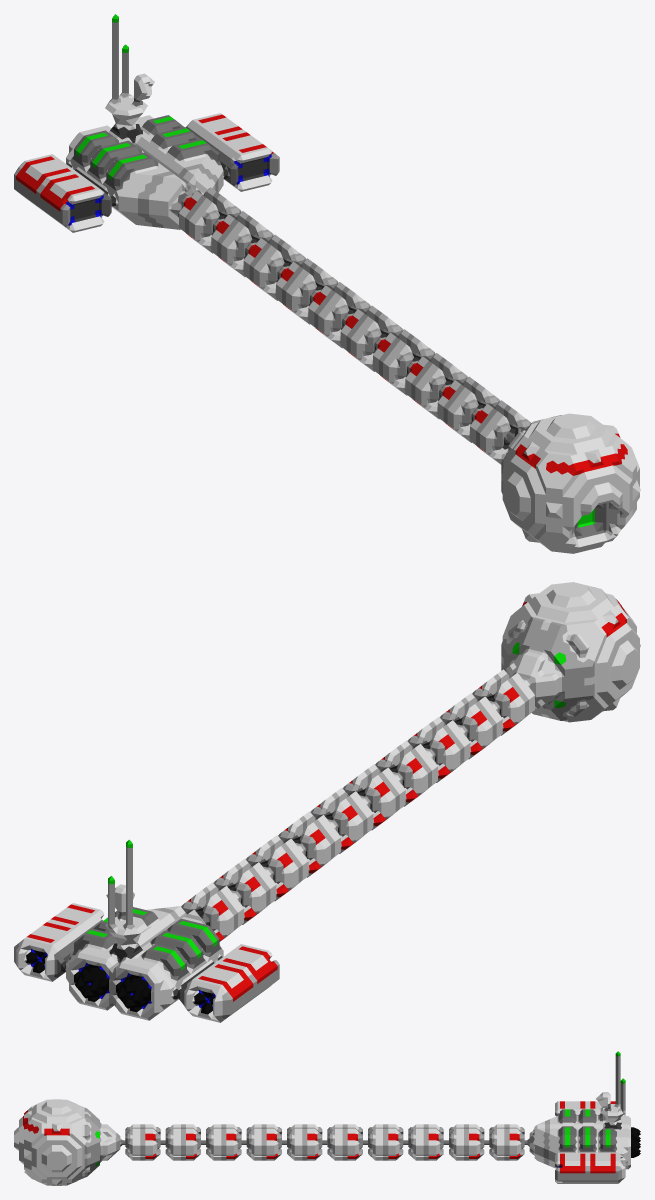
Rendered from ship_special_aso_ody.fbx.
The picture shows the model from 3 angles, top to bottom: view 1: azimuth 30°, elevation 25°; view 2: azimuth 150°, elevation 25°; view 3: azimuth 270°, elevation 25°; orthographic projection. The views are drawn at different scales.
Parts seen in each view (by area): view 1: ship_special_aso_ody; view 2: ship_special_aso_ody; view 3: ship_special_aso_ody.
Part boxes in pixels (box(x1,y1,x2,y2)): ship_special_aso_ody: box(14, 14, 640, 553); ship_special_aso_ody: box(14, 582, 640, 1022); ship_special_aso_ody: box(14, 1051, 640, 1185).
Size of the model in its own units: 3100 by 2800 by 12400.
